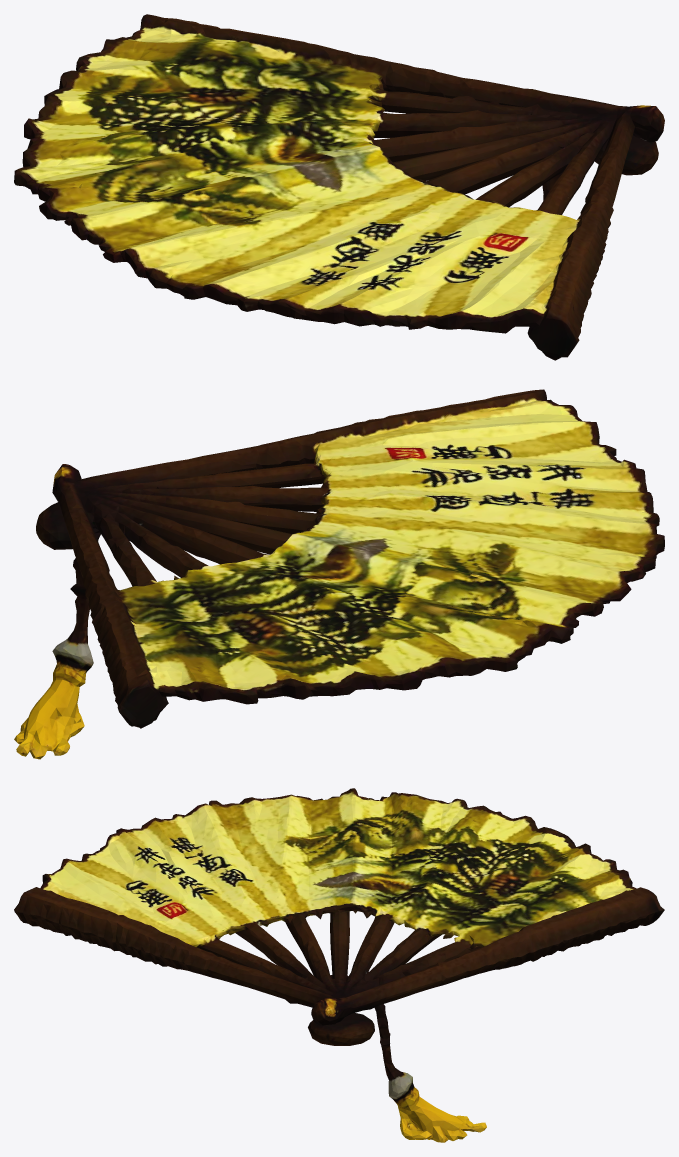
The model's file is Fan.glb.
3 renders of one model, top to bottom at view 1: azimuth 30°, elevation 25°; view 2: azimuth 150°, elevation 25°; view 3: azimuth 270°, elevation 25°, orthographic. The views are drawn at different scales.
Parts seen in each view (by area): view 1: tripo_node_5bfc48e0-0cb9-47e6-8db0-b37067dbf819; view 2: tripo_node_5bfc48e0-0cb9-47e6-8db0-b37067dbf819; view 3: tripo_node_5bfc48e0-0cb9-47e6-8db0-b37067dbf819.
Boxes of the visible parts, x1,y1,x2,y2 form: tripo_node_5bfc48e0-0cb9-47e6-8db0-b37067dbf819: (14,14,664,360); tripo_node_5bfc48e0-0cb9-47e6-8db0-b37067dbf819: (14,389,664,759); tripo_node_5bfc48e0-0cb9-47e6-8db0-b37067dbf819: (14,788,664,1142).
Size of the model in its own units: 0.7632 by 0.2806 by 1.
1 material, 1 textured.
